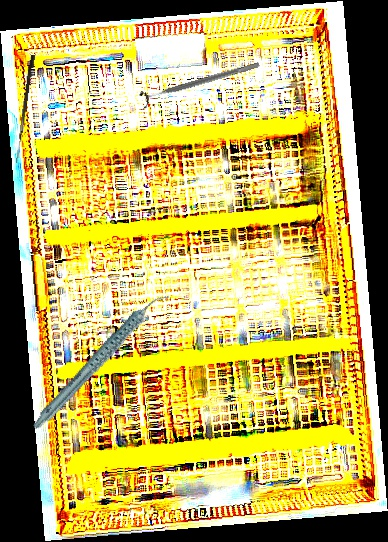Fixation Ring: (137, 55, 263, 110)
Handpiece: (10, 290, 192, 432)
Hook Surgical: (15, 54, 36, 164)
